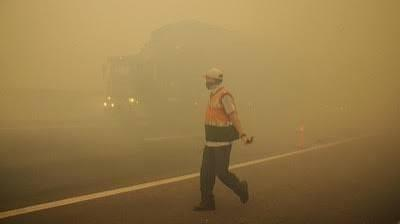Deteksi-Objek-Citra-Berasap: (0, 0, 399, 223)
Kendaraan: (100, 53, 193, 137)
Manusia: (192, 67, 253, 212)
